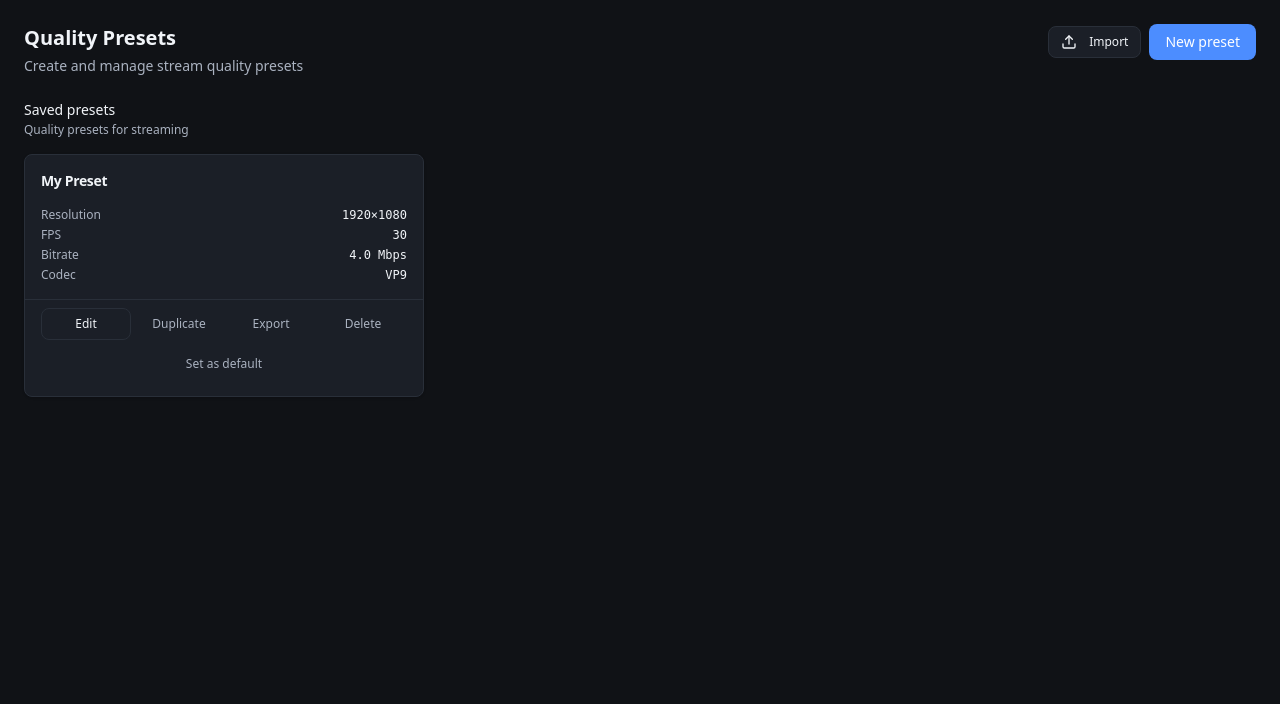
Test: QualityPresetsPage interactions › opens edit sheet on existing preset
Expected: the text "My Preset" is shown, 41,171 -> 107,191
Click Edit
Click the button "Edit".
click(86, 324)  # box 41,308 -> 131,340
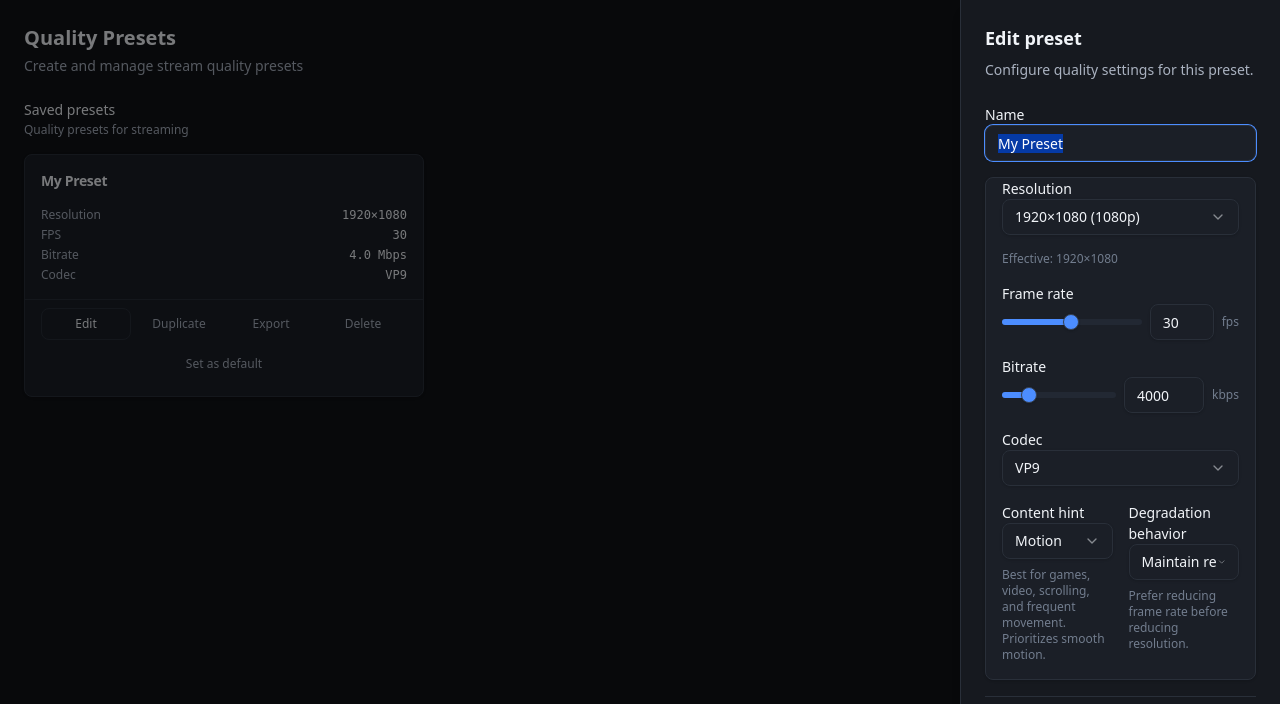
Expected: the heading "Edit preset" is shown, 985,26 -> 1082,50
Expected: the field labelled "Name" holds "My Preset", 985,125 -> 1256,161
